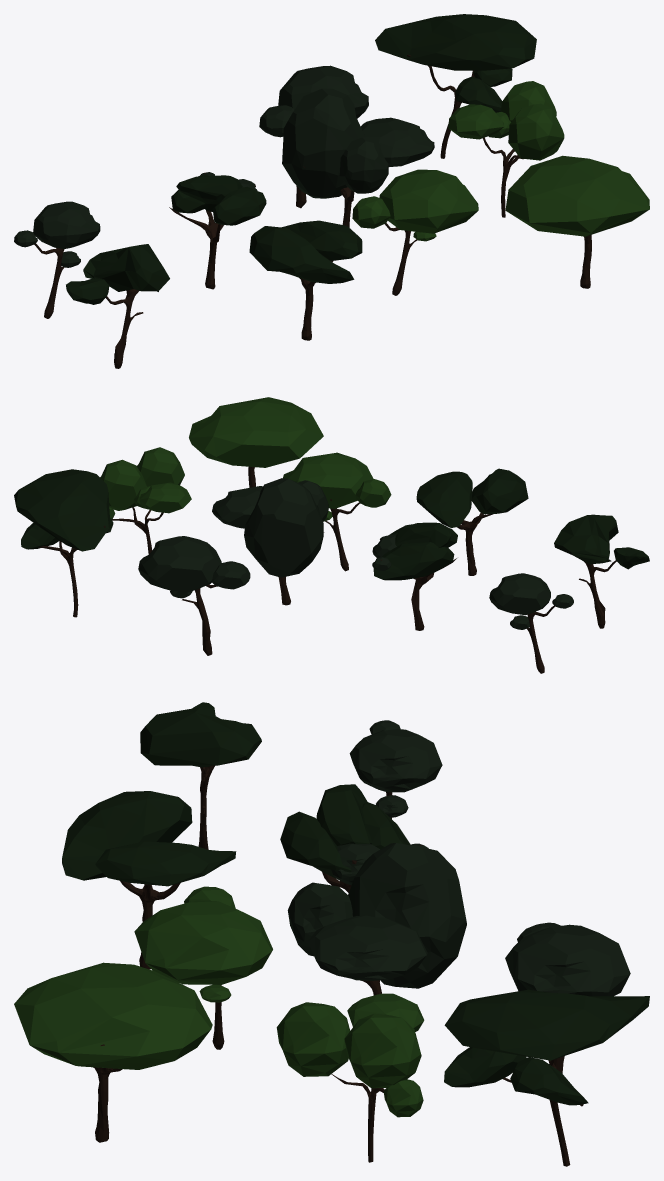
The model's file is trees_type3_coll.FBX.
The picture shows the model from 3 angles, top to bottom: view 1: azimuth 30°, elevation 25°; view 2: azimuth 150°, elevation 25°; view 3: azimuth 270°, elevation 25°; orthographic projection. The views are drawn at different scales.
Parts seen in each view (by area): view 1: Group82270, Group82288, Group82286, Group82274, Group82266, Group82297, Group82293, Group82277, Group82285, Group82272, Group82287, Group82265 (+16 smaller); view 2: Group82270, Group82286, Group82288, Group82272, Group82274, Group82265, Group82297, Group82281, Group82277, Group82266, Group82292, Group82293 (+15 smaller); view 3: Group82270, Group82286, Group82288, Group82274, Group82272, Group82266, Group82285, Group82297, Group82265, Group82277, Group82292, Group82293 (+13 smaller).
Part boxes in pixels (x1,y1,x2,y2): Group82270: (505, 155, 649, 236); Group82288: (375, 14, 536, 70); Group82286: (282, 88, 365, 198); Group82274: (379, 169, 478, 233); Group82266: (249, 226, 354, 283); Group82297: (83, 244, 169, 291); Group82293: (508, 103, 564, 160); Group82277: (33, 201, 100, 248); Group82285: (360, 117, 434, 166); Group82272: (278, 65, 368, 118); Group82287: (339, 137, 388, 193); Group82265: (282, 220, 362, 260); Group82270: (189, 397, 323, 467); Group82286: (244, 478, 323, 577); Group82288: (14, 469, 110, 551); Group82272: (138, 536, 221, 592); Group82274: (283, 452, 373, 508); Group82265: (416, 471, 472, 527); Group82297: (554, 514, 618, 564); Group82281: (373, 542, 454, 580); Group82277: (489, 573, 550, 615); Group82266: (471, 468, 528, 514); Group82292: (100, 459, 146, 510); Group82293: (137, 447, 184, 486); Group82270: (14, 962, 212, 1069); Group82286: (348, 843, 466, 988); Group82288: (444, 989, 649, 1060); Group82274: (134, 900, 272, 984); Group82272: (505, 924, 630, 996); Group82266: (62, 791, 192, 880); Group82285: (308, 915, 427, 980); Group82297: (140, 707, 261, 767); Group82265: (95, 841, 236, 886); Group82277: (349, 729, 442, 792); Group82292: (344, 1013, 421, 1088); Group82293: (276, 1002, 350, 1076).
Size of the model in its own units: 12145 by 3244 by 8469.
